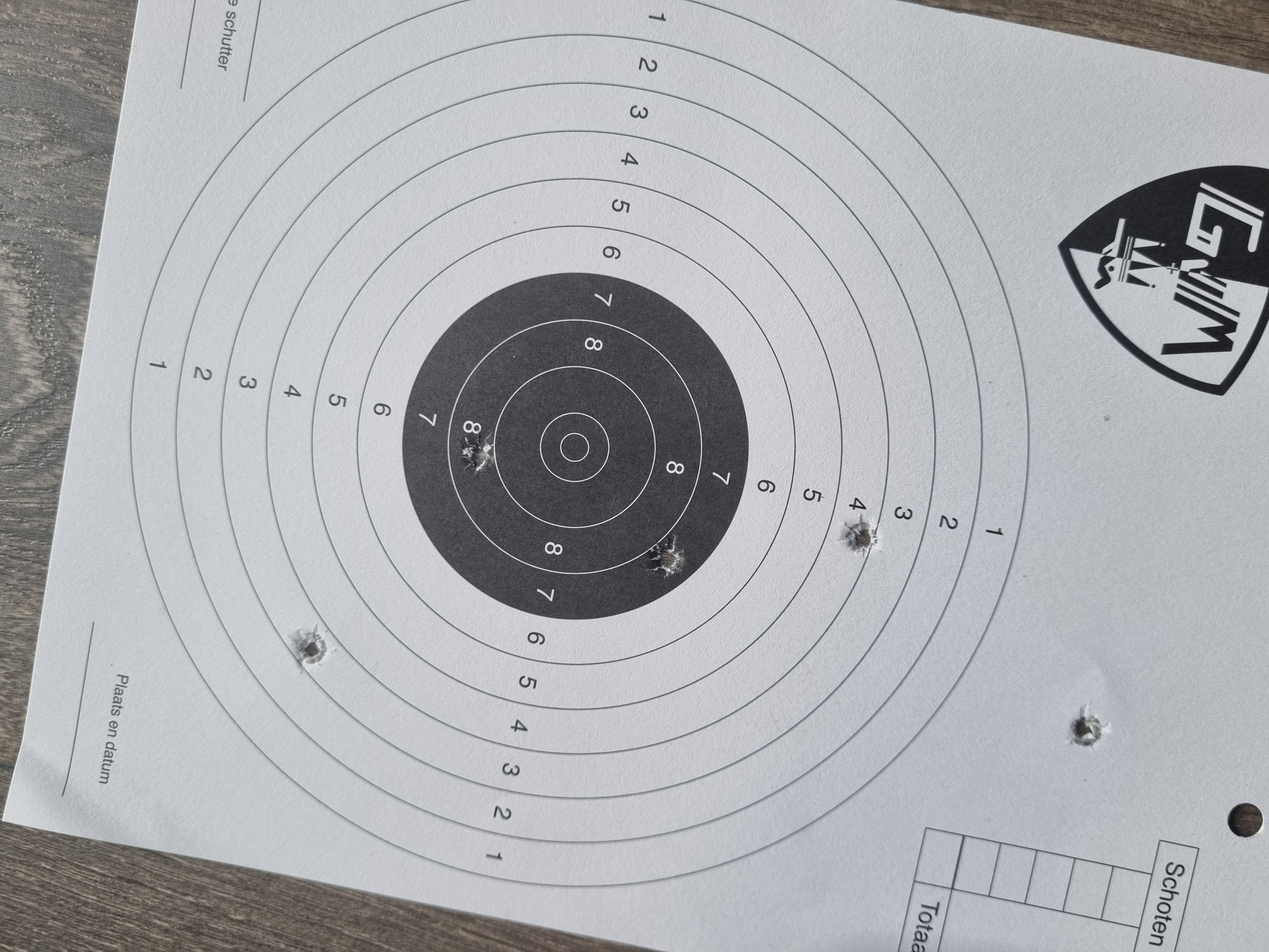hole: (264, 800, 326, 833), (372, 214, 431, 248), (493, 483, 553, 513), (525, 630, 583, 661), (635, 345, 691, 371)
